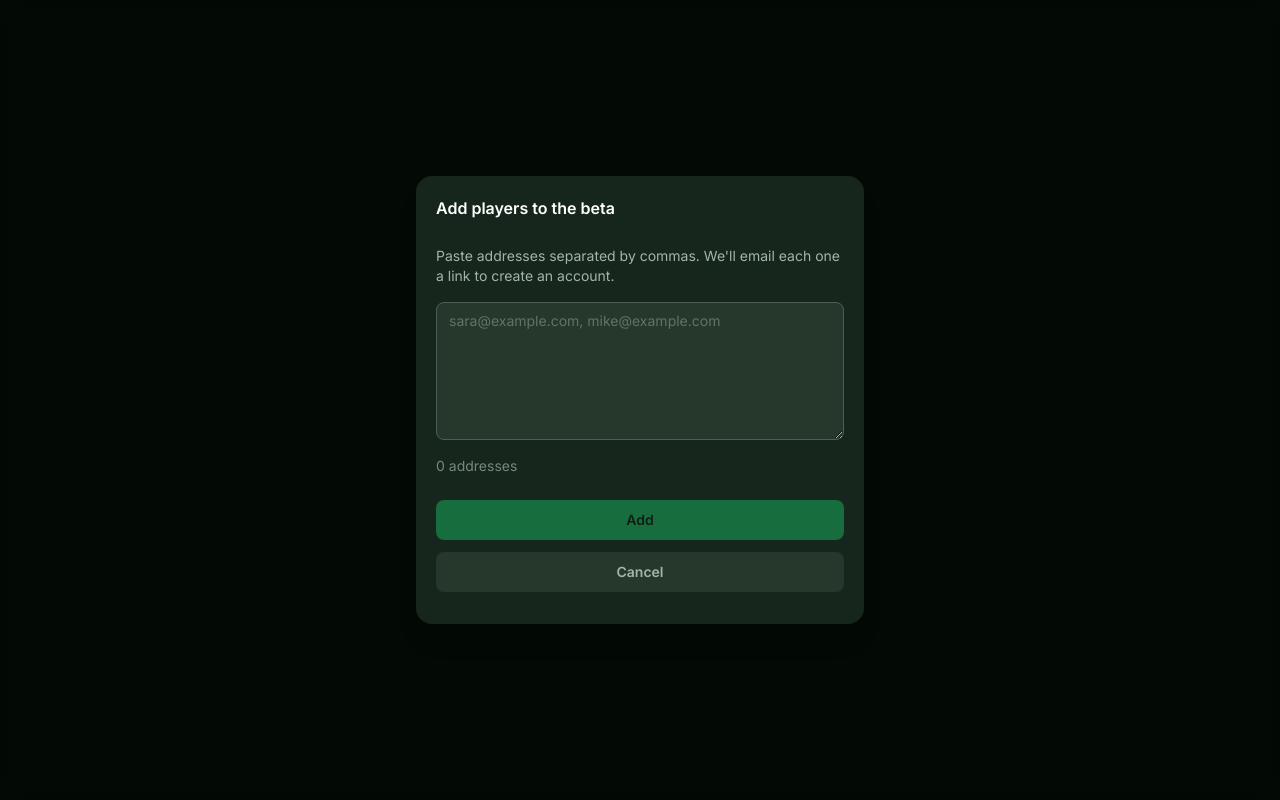
Scenario: Add players to the beta › names the addresses whose email did not send
This screenshot has width=1280, height=800.
Type "a@example.com, b@example.com" into the text box with placeholder "sara@example.com, mike@example.com".
click(640, 371); type("a@example.com, b@example.com")  # box [436,302,844,440]
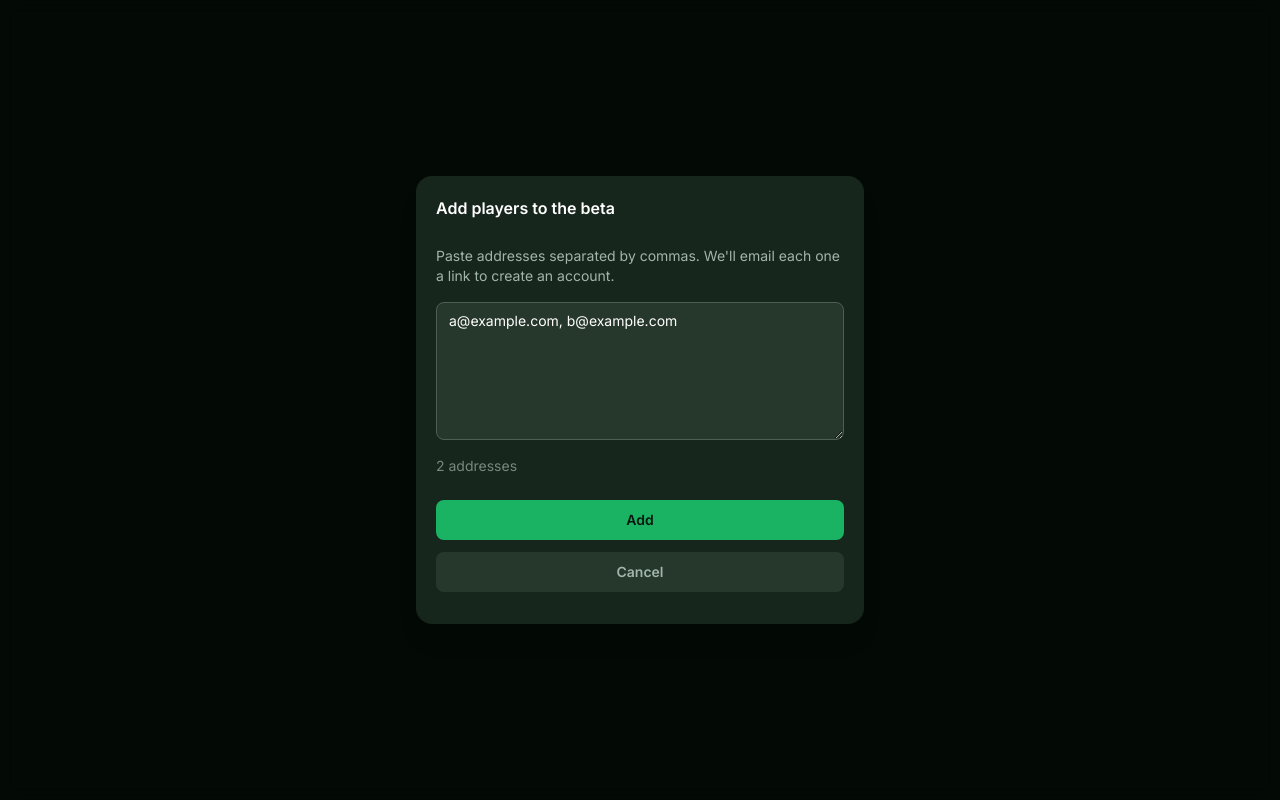
Click the button "Add".
click(640, 520)  # box [436,500,844,540]
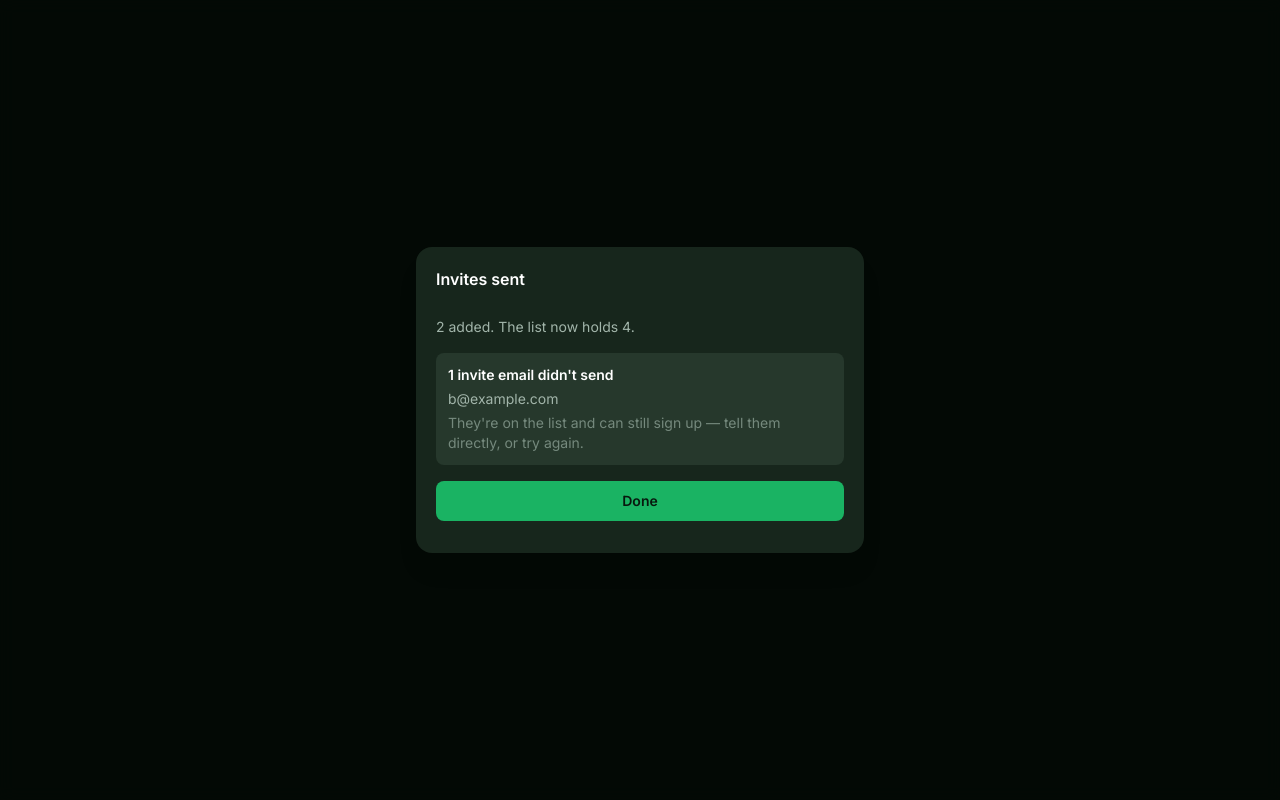
Now the text "1 invite email didn't send" is shown, box [448,366,614,383]
Now the text "b@example.com" is shown, box [448,390,558,407]
